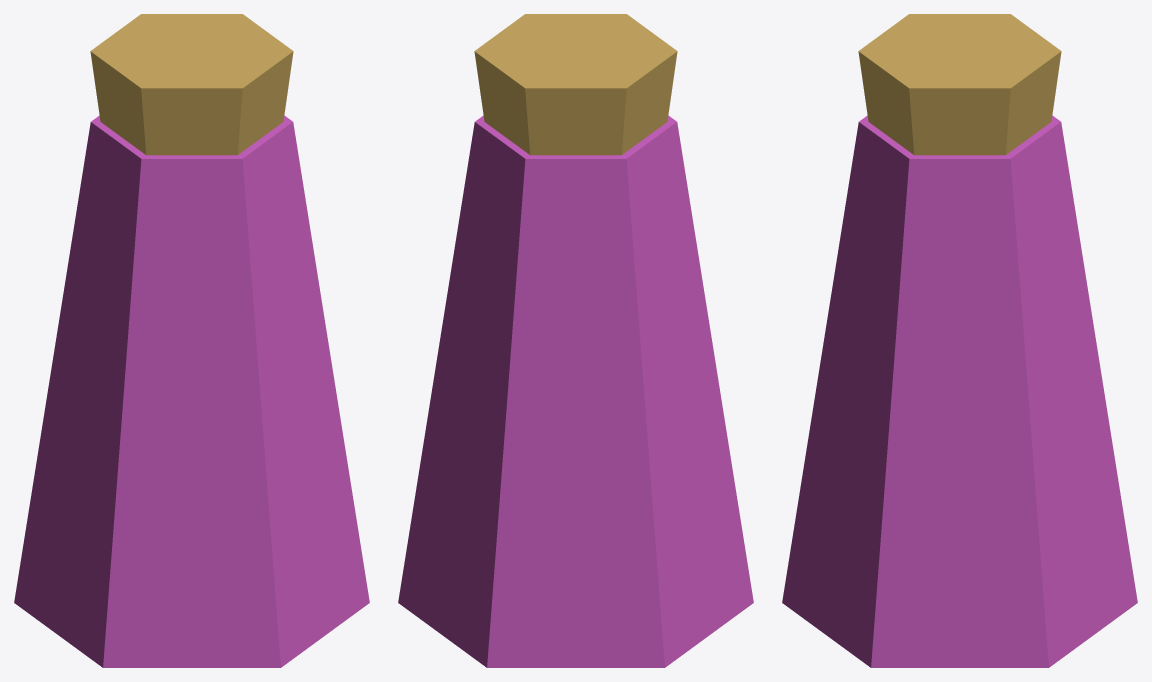
Rendered from potion_mini.fbx.
3 renders of one model, left to right at view 1: azimuth 30°, elevation 25°; view 2: azimuth 150°, elevation 25°; view 3: azimuth 270°, elevation 25°, orthographic.
Visible parts, largest first — view 1: Cylinder, Cylinder.001; view 2: Cylinder, Cylinder.001; view 3: Cylinder, Cylinder.001.
Part boxes in pixels (x1=…): Cylinder: x1=14, y1=115, x2=369, y2=667; Cylinder.001: x1=90, y1=14, x2=293, y2=155; Cylinder: x1=398, y1=115, x2=753, y2=667; Cylinder.001: x1=474, y1=14, x2=677, y2=155; Cylinder: x1=782, y1=115, x2=1137, y2=667; Cylinder.001: x1=858, y1=14, x2=1061, y2=155.
Bounding box in the file's own units: 304 × 601 × 351.
